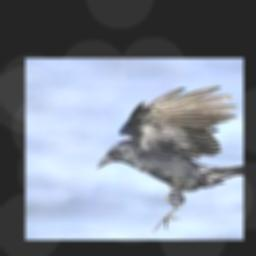Crow: (95, 85, 243, 235)
